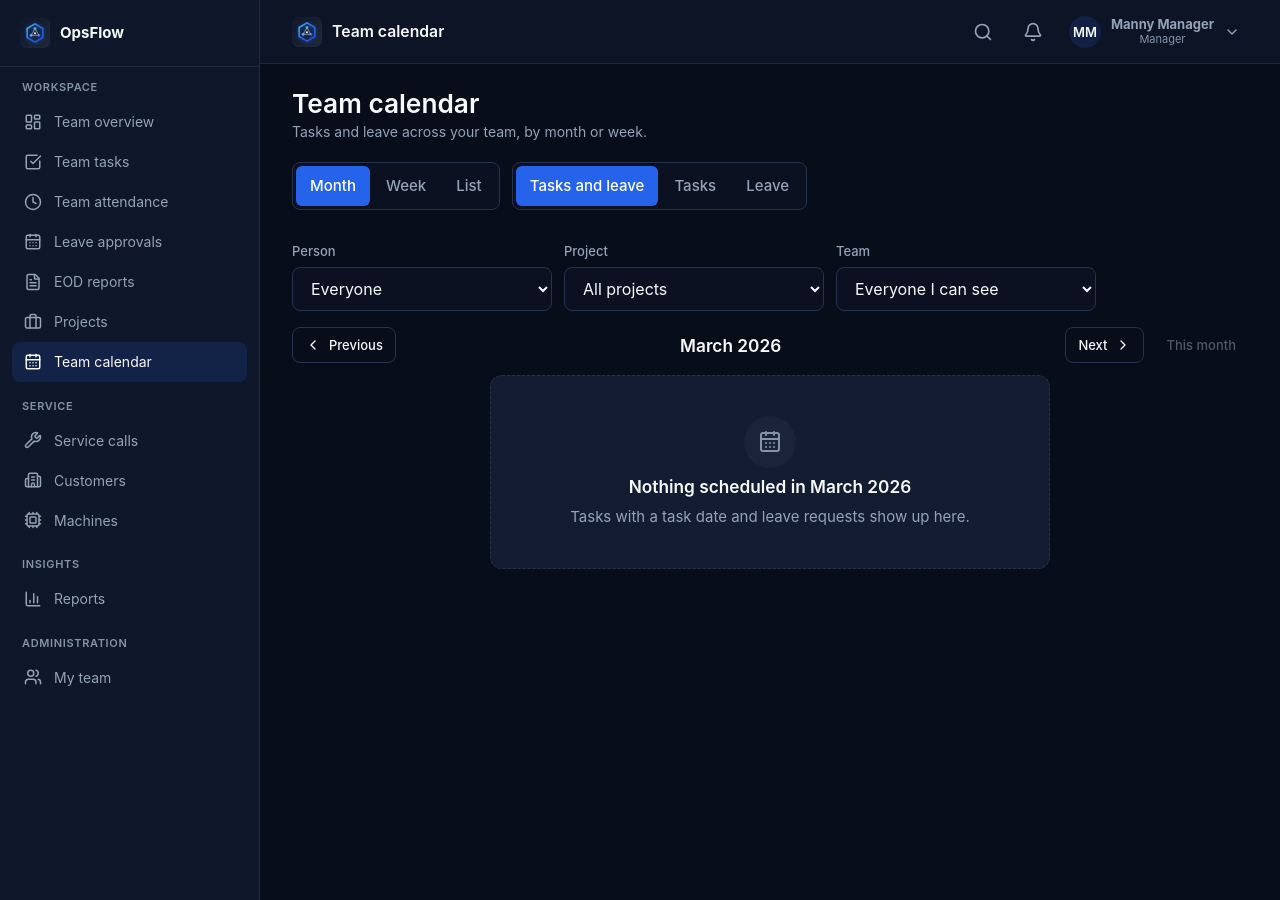
Test: Team calendar › moves between months and returns to this month
The image size is (1280, 900).
Expected: the heading "March 2026" is shown, [680, 334, 781, 356]
What coordinates should you click on to do the following:
click the button with aria-label "Next month"
I would click on:
 (1105, 345)
Its box is [1065, 327, 1144, 363].
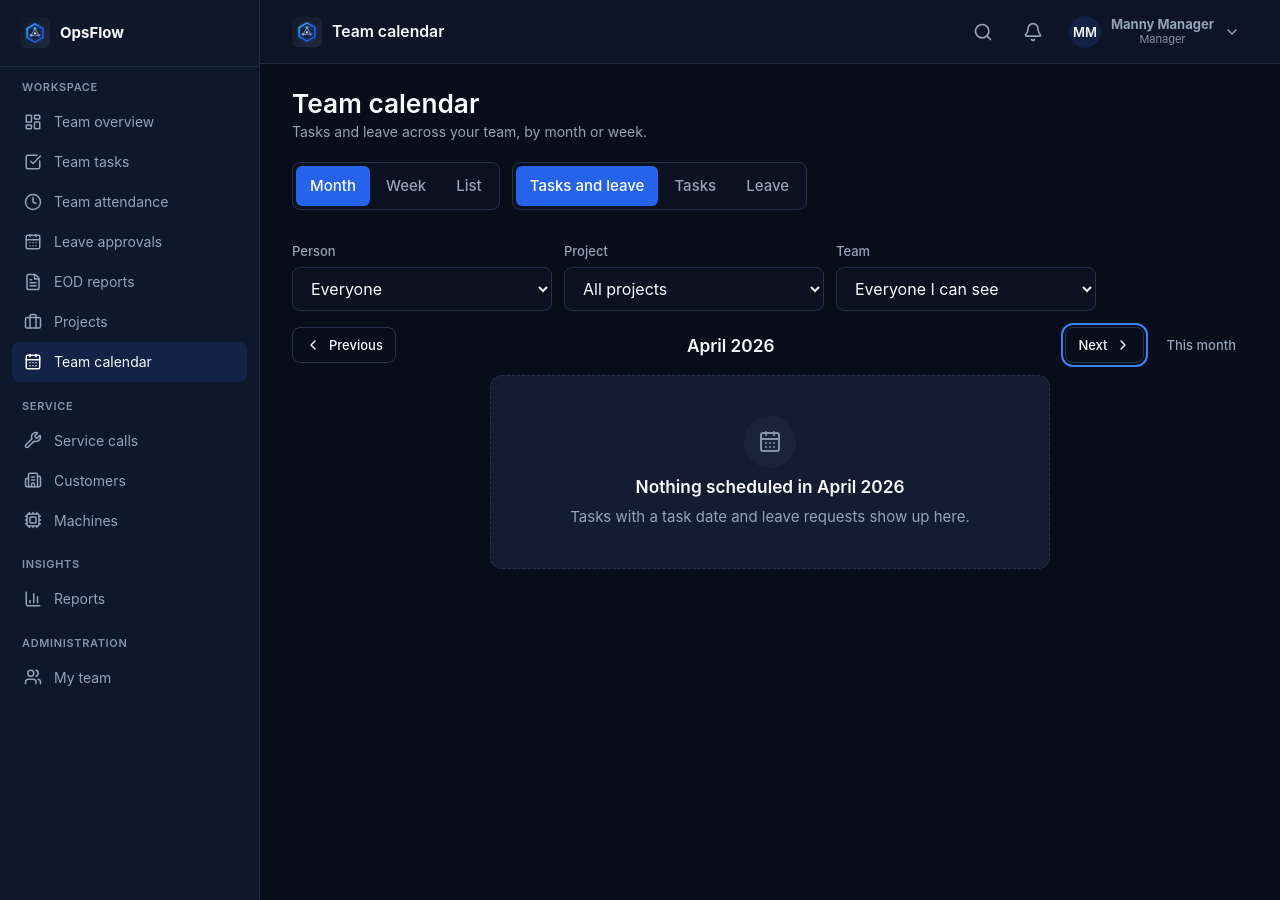
Now the heading "April 2026" is shown, box [687, 334, 774, 356]
What coordinates should you click on to do the following:
click the button with aria-label "Previous month"
I would click on:
 (344, 345)
Its box is [292, 327, 396, 363].
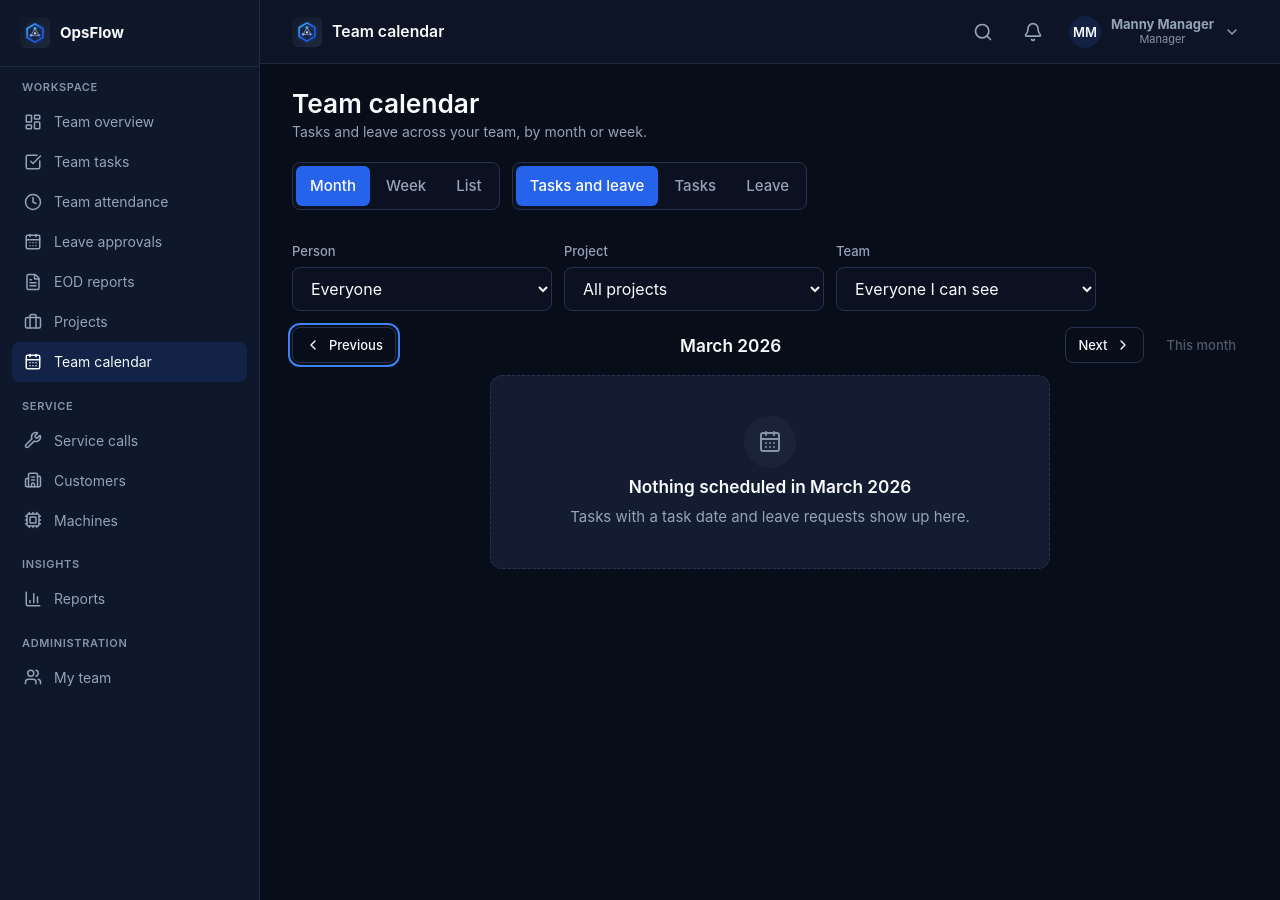
What coordinates should you click on to do the following:
click the button with aria-label "Previous month"
I would click on:
 (344, 345)
Its box is [292, 327, 396, 363].
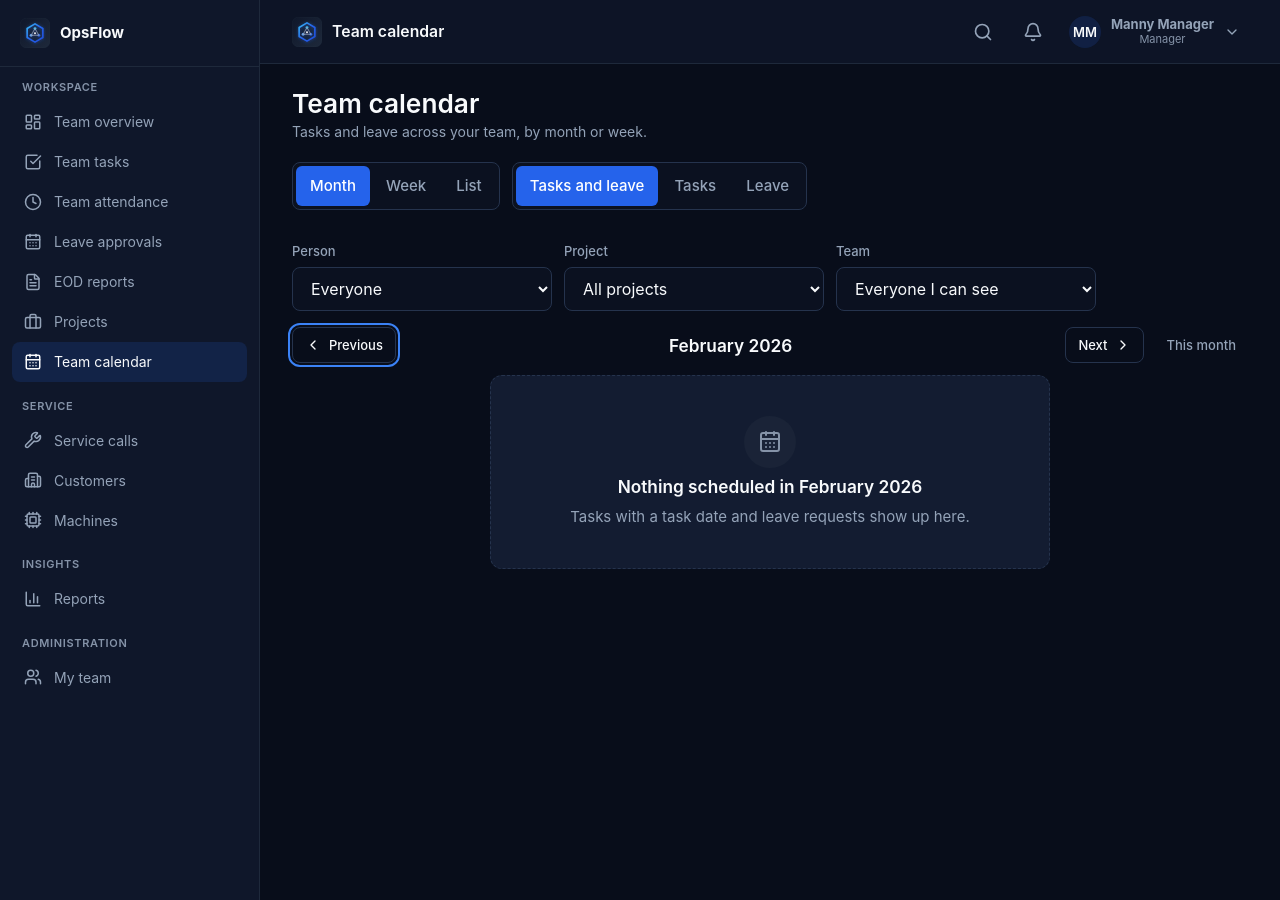
Now the heading "February 2026" is shown, box [669, 334, 792, 356]
What coordinates should you click on to do the following:
click the button "This month"
I would click on:
 (1201, 345)
Its box is [1154, 327, 1248, 363].
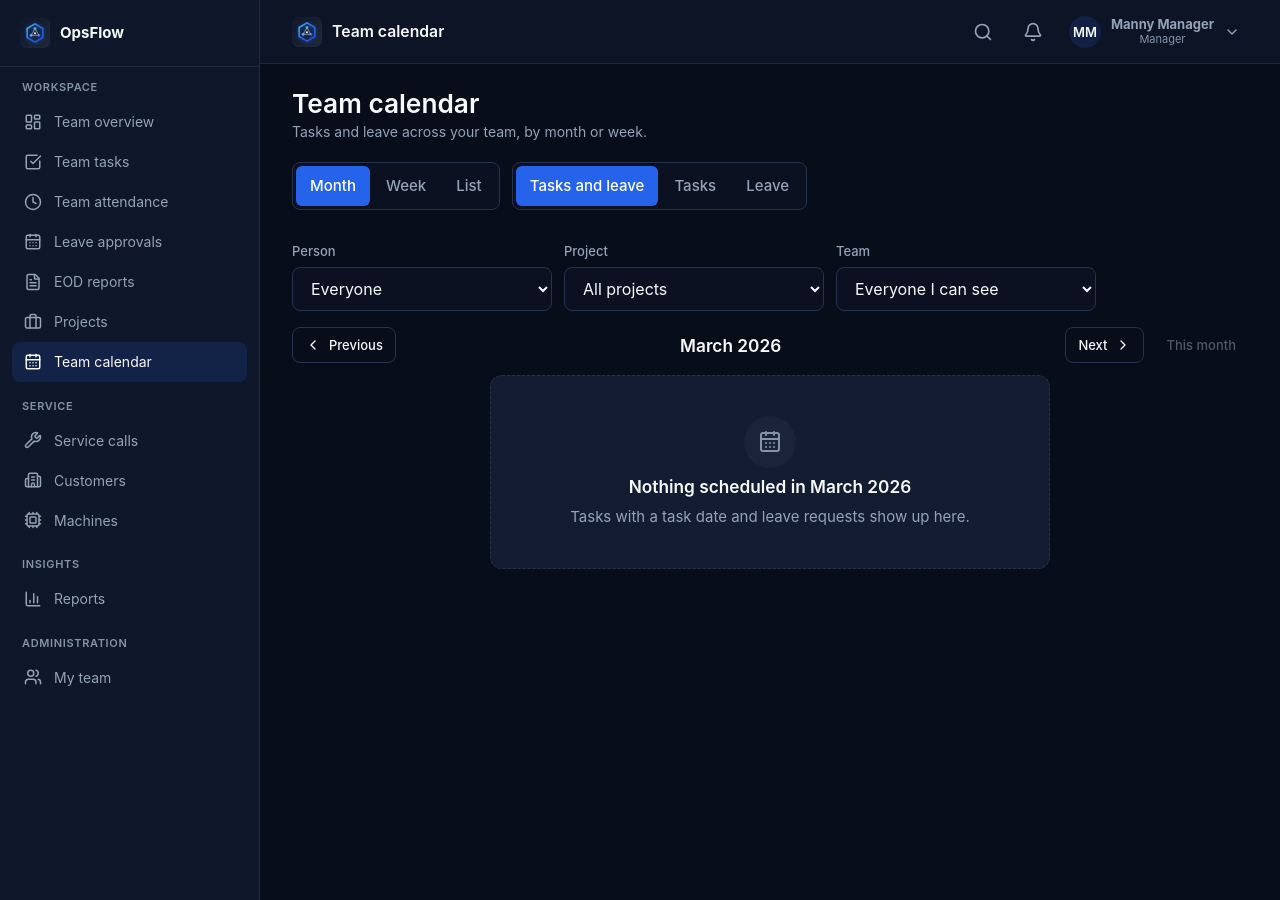
Now the heading "March 2026" is shown, box [680, 334, 781, 356]
